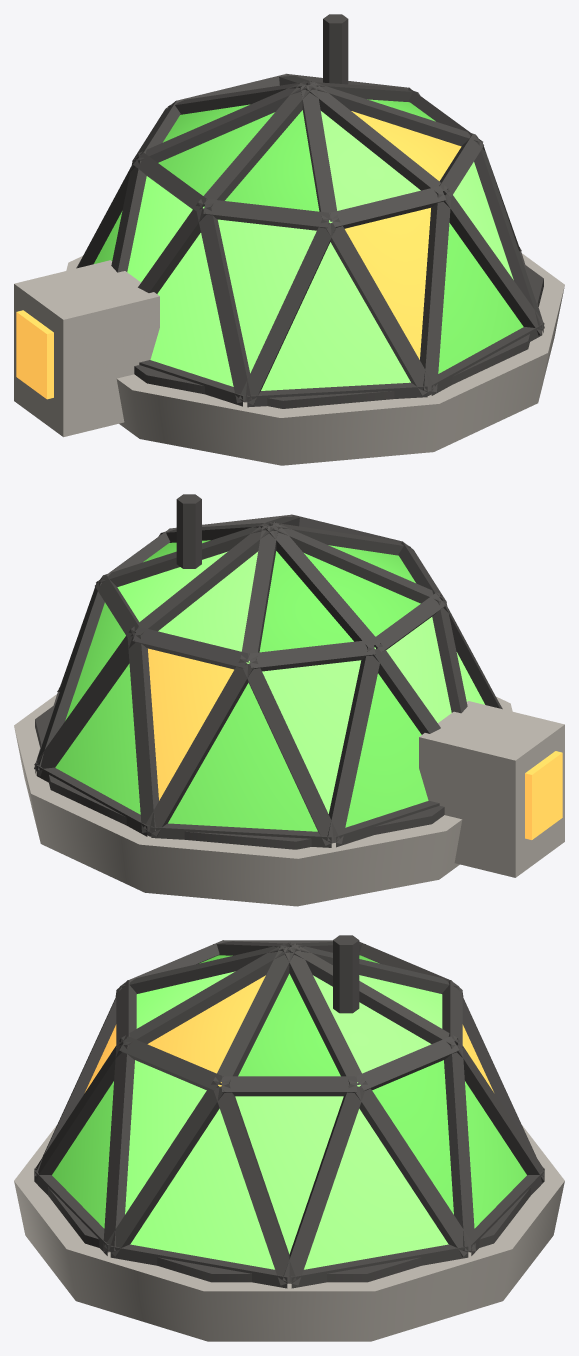
File: pod.glb
3 views of the same model, one above another, from view 1: azimuth 30°, elevation 25°; view 2: azimuth 150°, elevation 25°; view 3: azimuth 270°, elevation 25° (orthographic). The views are drawn at different scales.
Parts seen in each view (by area): view 1: pod; view 2: pod; view 3: pod.
Boxes of the visible parts, x1,y1,x2,y2 form: pod: (14, 14, 564, 465); pod: (14, 494, 564, 906); pod: (14, 935, 564, 1341).
Size of the model in its own units: 3.16 by 1.89 by 2.92.
